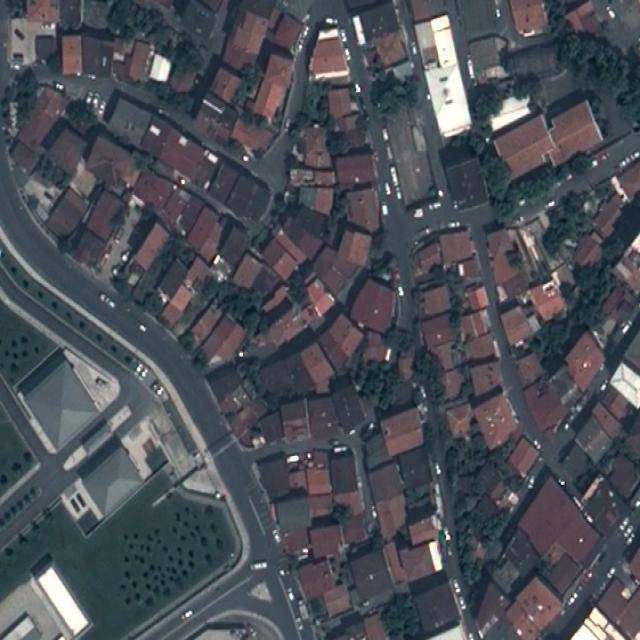Batiment: (16, 349, 119, 453), (519, 477, 599, 563), (0, 564, 90, 640), (415, 15, 471, 136), (142, 116, 204, 180), (494, 114, 555, 178), (84, 447, 141, 515), (158, 257, 211, 327), (365, 408, 422, 467), (550, 101, 602, 165), (134, 172, 191, 226), (18, 86, 65, 151), (488, 229, 528, 299), (86, 135, 139, 187), (224, 12, 268, 70), (254, 54, 292, 121), (565, 331, 605, 392), (516, 578, 562, 631), (384, 542, 442, 584), (474, 394, 518, 449), (599, 579, 640, 637), (350, 280, 395, 332), (319, 315, 362, 369), (584, 482, 629, 533), (8, 18, 56, 65), (201, 316, 245, 366), (195, 93, 238, 144), (350, 551, 392, 602), (524, 384, 569, 431), (446, 158, 488, 208), (314, 247, 358, 294), (46, 188, 88, 237), (232, 254, 280, 296), (226, 175, 270, 220), (109, 98, 151, 145), (310, 30, 349, 79), (188, 206, 222, 262), (48, 128, 86, 175), (88, 191, 124, 240), (301, 343, 334, 394), (134, 223, 169, 270), (612, 235, 639, 294), (332, 385, 365, 431), (263, 239, 298, 281), (530, 281, 566, 321), (299, 561, 335, 600), (546, 554, 580, 595), (347, 190, 380, 232), (511, 0, 548, 37), (231, 119, 272, 152), (376, 494, 405, 540), (609, 454, 640, 497), (610, 363, 640, 407), (369, 463, 402, 503), (82, 35, 114, 76), (268, 310, 305, 345), (232, 400, 266, 437), (501, 307, 534, 345), (336, 153, 375, 184), (565, 0, 600, 34), (338, 230, 371, 266), (74, 230, 106, 267), (508, 438, 539, 476), (330, 451, 358, 493), (594, 196, 621, 239), (319, 331, 348, 371), (192, 305, 221, 344), (210, 163, 239, 202), (282, 401, 310, 440), (440, 232, 474, 264), (310, 525, 342, 559), (375, 32, 406, 67), (129, 41, 154, 83), (276, 229, 306, 264), (592, 403, 621, 439), (311, 399, 338, 437), (421, 315, 452, 348), (272, 14, 301, 49), (211, 68, 240, 102), (601, 387, 630, 421), (471, 361, 500, 395), (574, 232, 602, 266), (460, 310, 490, 341), (304, 128, 330, 163), (220, 385, 250, 415), (322, 585, 351, 616), (430, 342, 462, 370), (447, 403, 472, 437), (414, 244, 441, 275), (516, 354, 542, 386), (290, 169, 335, 187), (328, 87, 352, 120), (424, 286, 451, 315), (466, 334, 496, 360), (619, 161, 640, 198), (409, 518, 436, 546), (362, 331, 386, 362), (62, 35, 81, 74), (334, 491, 364, 515), (298, 230, 322, 259), (262, 287, 288, 313), (306, 468, 331, 495), (342, 516, 366, 544), (441, 370, 462, 400), (364, 614, 388, 640), (149, 54, 171, 82), (311, 188, 334, 214), (314, 292, 335, 317), (309, 495, 331, 518), (469, 286, 489, 309), (411, 125, 426, 151)
